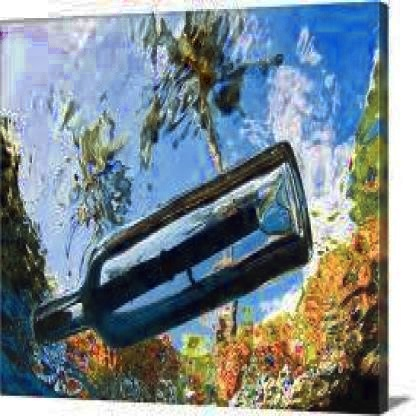gbottle: (29, 142, 312, 350)
